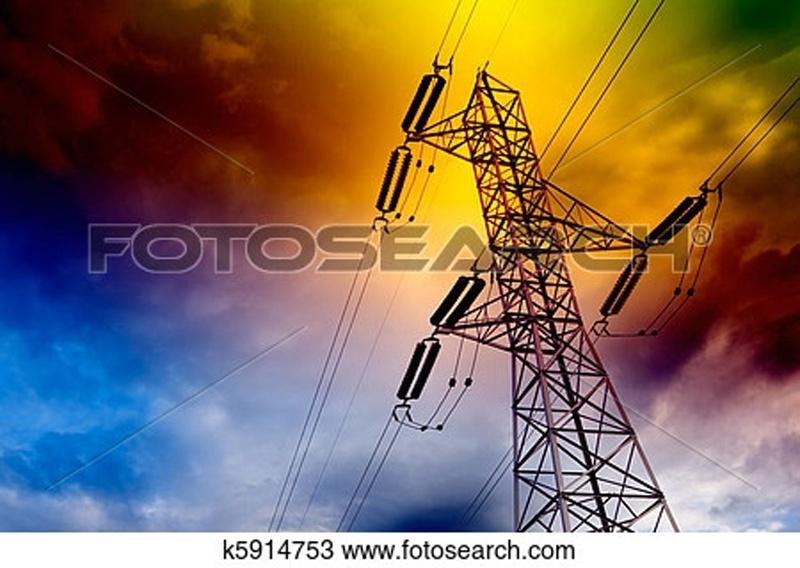power_tower: (421, 55, 691, 528)
